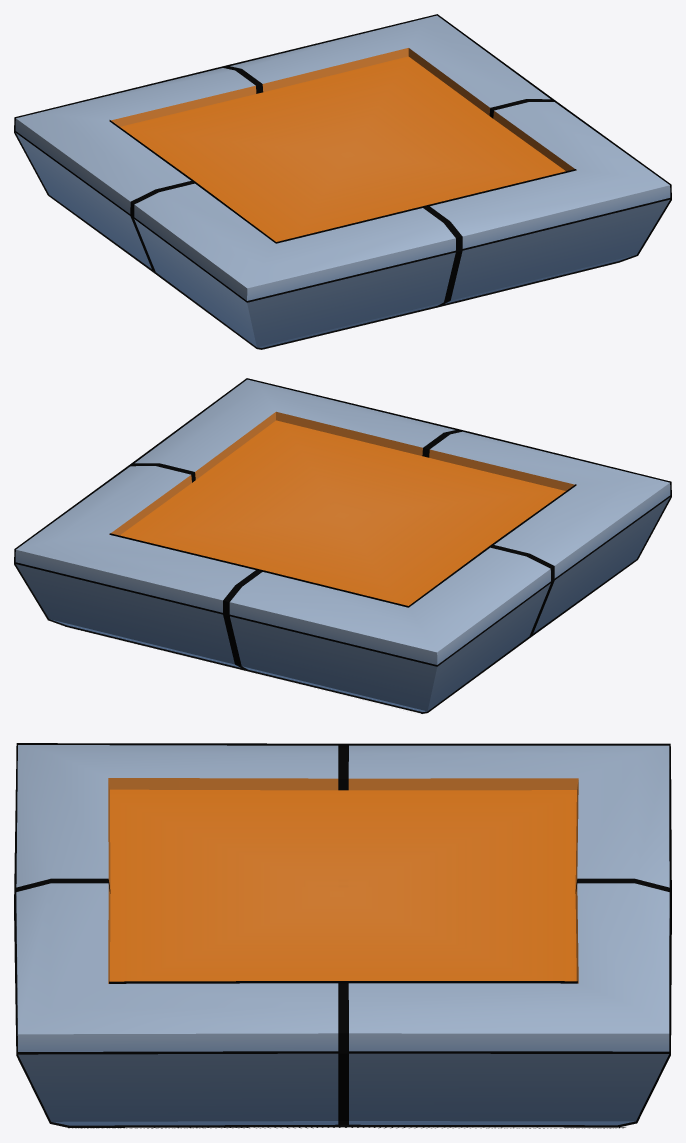
The model's file is Platform_StairsPlatform.glb.
3 views of the same model, one above another, from view 1: azimuth 30°, elevation 25°; view 2: azimuth 150°, elevation 25°; view 3: azimuth 270°, elevation 25° (orthographic). The views are drawn at different scales.
Parts seen in each view (by area): view 1: Platform_StairsPlatform; view 2: Platform_StairsPlatform; view 3: Platform_StairsPlatform.
Part boxes in pixels (x1,y1,x2,y2): Platform_StairsPlatform: [14, 14, 671, 349]; Platform_StairsPlatform: [14, 378, 671, 713]; Platform_StairsPlatform: [14, 743, 671, 1128].
Size of the model in its own units: 2.63 by 0.5355 by 2.51.
Materials: 3 (2 with a texture image).
